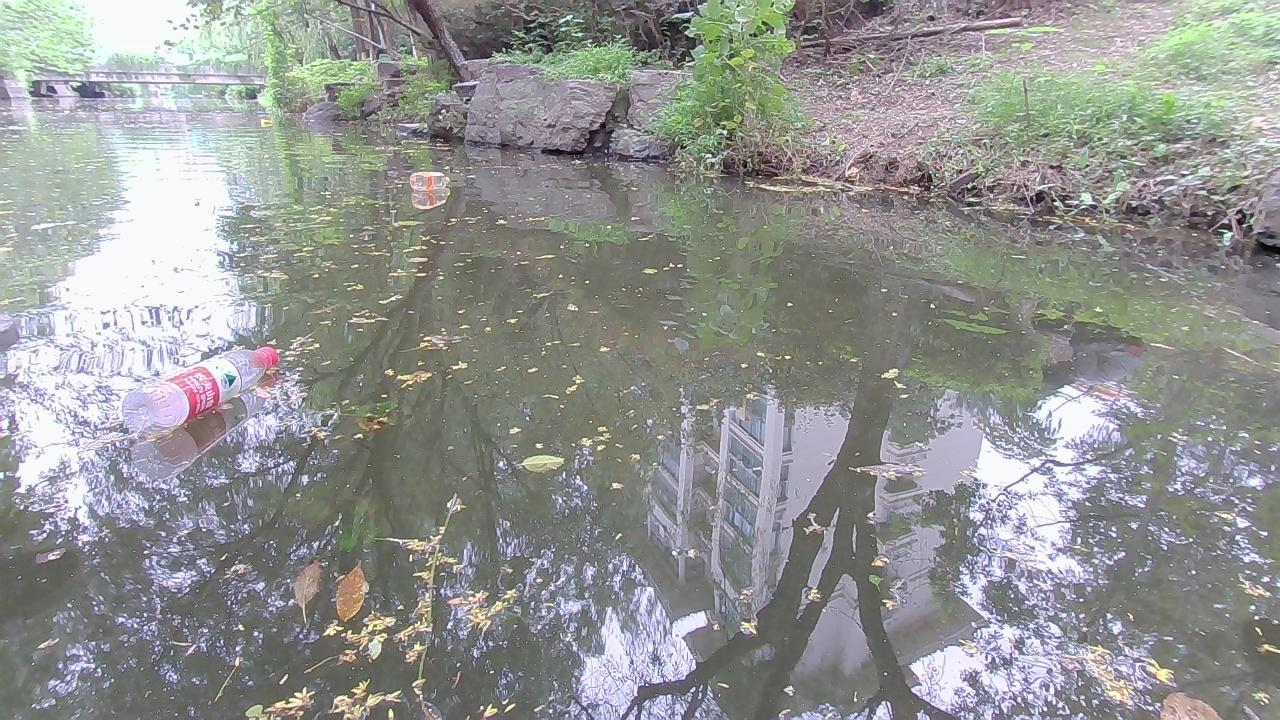bottle: (116, 341, 283, 437), (406, 168, 453, 187), (257, 118, 275, 123)
